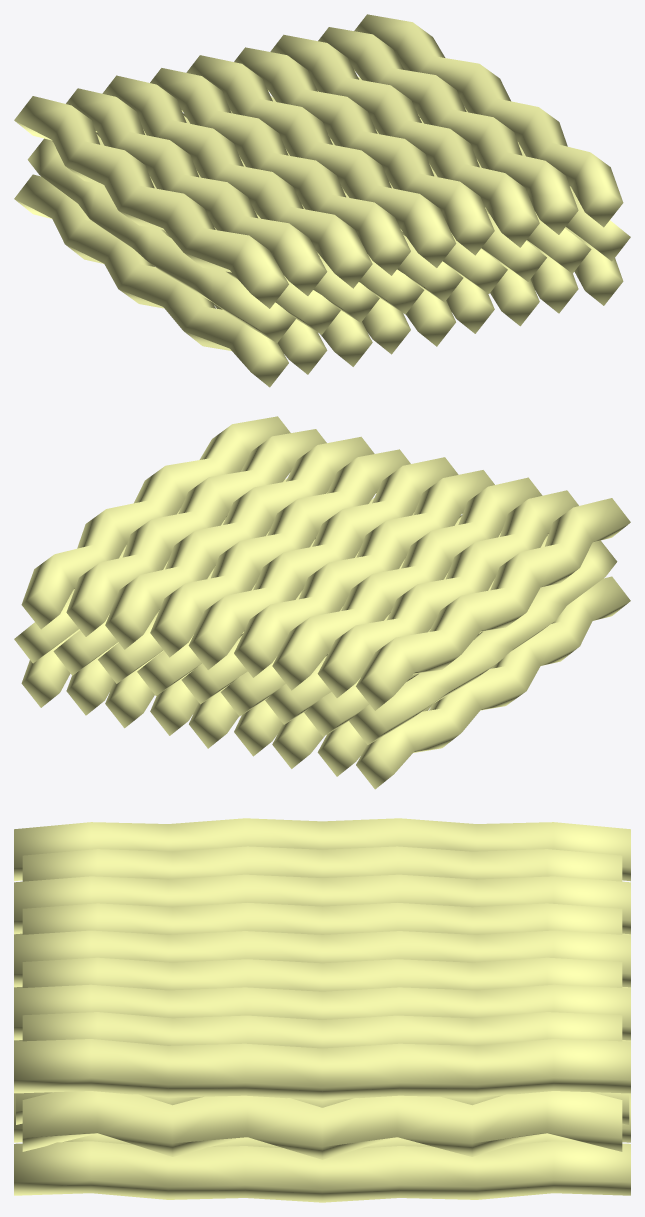
Rendered from Noodle_geo.fbx.
3 renders of one model, top to bottom at view 1: azimuth 30°, elevation 25°; view 2: azimuth 150°, elevation 25°; view 3: azimuth 270°, elevation 25°, orthographic. The views are drawn at different scales.
Parts seen in each view (by area): view 1: Noodle_geo; view 2: Noodle_geo; view 3: Noodle_geo.
Part boxes in pixels (box(x1,y1,x2,y2)): Noodle_geo: box(14, 14, 630, 387); Noodle_geo: box(14, 416, 630, 789); Noodle_geo: box(14, 818, 630, 1202).
Bounding box in the file's own units: 0.5034 × 0.5016 × 0.1499.
